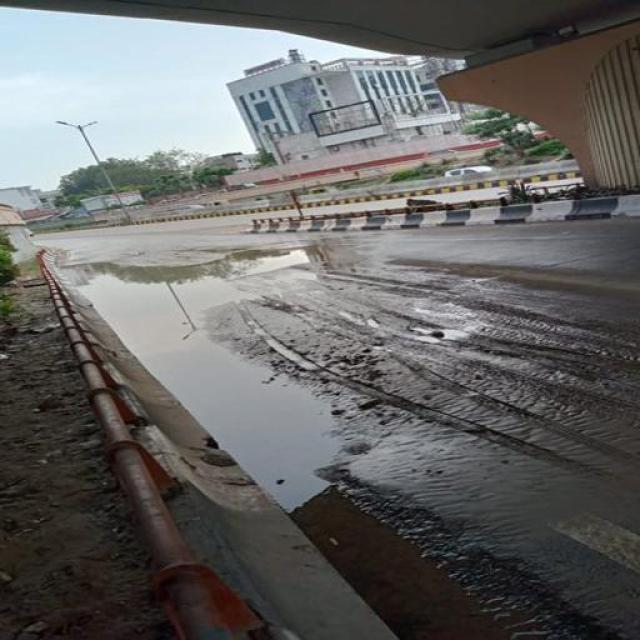puddle: (108, 299, 270, 374), (222, 379, 342, 480), (70, 267, 305, 291)
